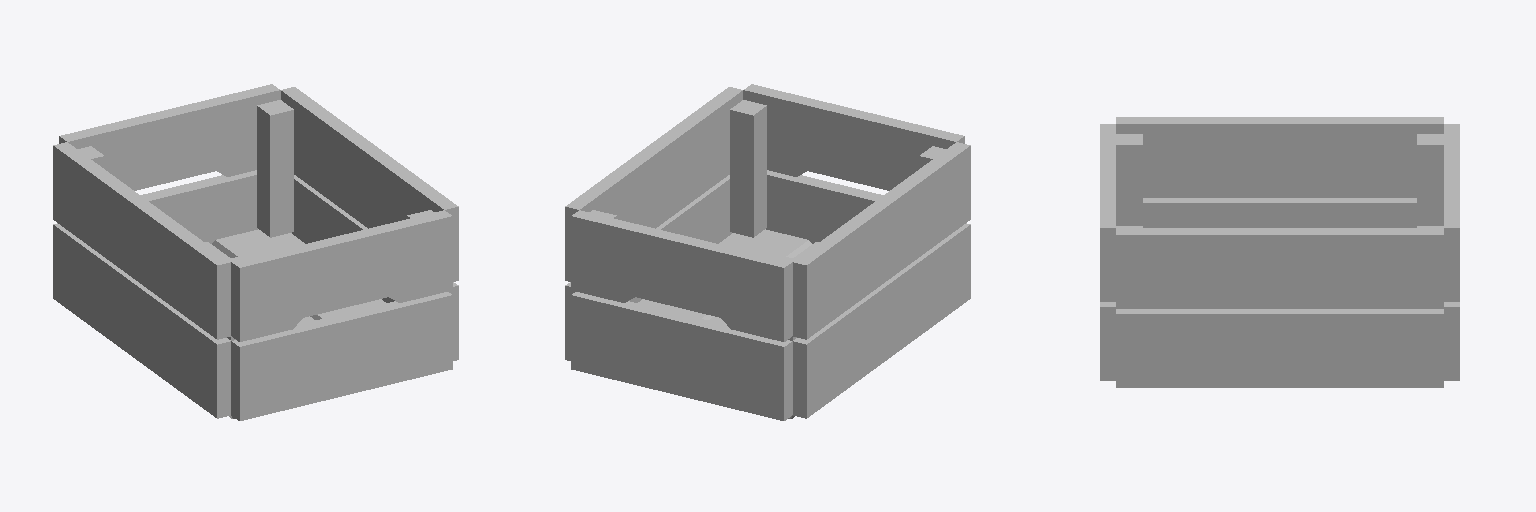
File: Vegetable_Box.obj
3 renders of one model, left to right at view 1: azimuth 30°, elevation 25°; view 2: azimuth 150°, elevation 25°; view 3: azimuth 270°, elevation 25°, orthographic.
Visible parts, largest first — view 1: Box; view 2: Box; view 3: Box.
Boxes of the visible parts, <box> form: Box: <box>53,84,458,420</box>; Box: <box>565,84,970,420</box>; Box: <box>1100,117,1459,387</box>.
Bounding box in the file's own units: 3.4 × 2.15 × 4.4.